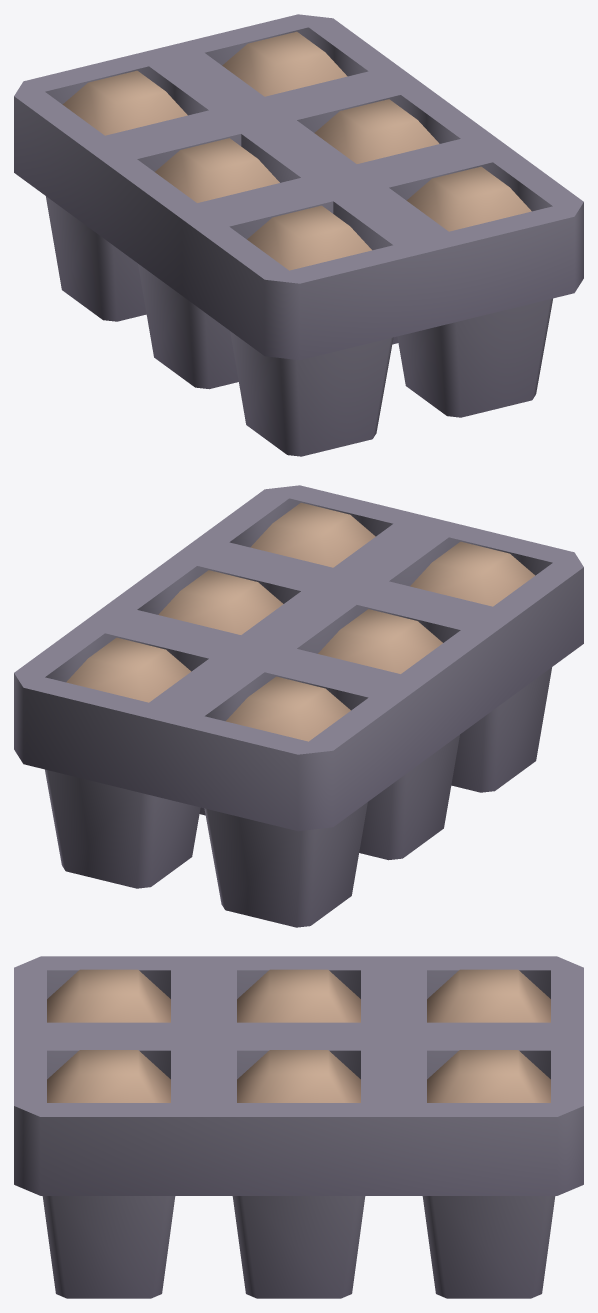
Rendered from seedling-tray.glb.
3 renders of one model, top to bottom at view 1: azimuth 30°, elevation 25°; view 2: azimuth 150°, elevation 25°; view 3: azimuth 270°, elevation 25°, orthographic. The views are drawn at different scales.
Parts seen in each view (by area): view 1: seedling-tray; view 2: seedling-tray; view 3: seedling-tray.
Boxes of the visible parts, <box> form: seedling-tray: <box>14,14,583,456</box>; seedling-tray: <box>14,485,583,927</box>; seedling-tray: <box>14,956,583,1298</box>.
Size of the model in its own units: 0.2685 by 0.1665 by 0.4028.
